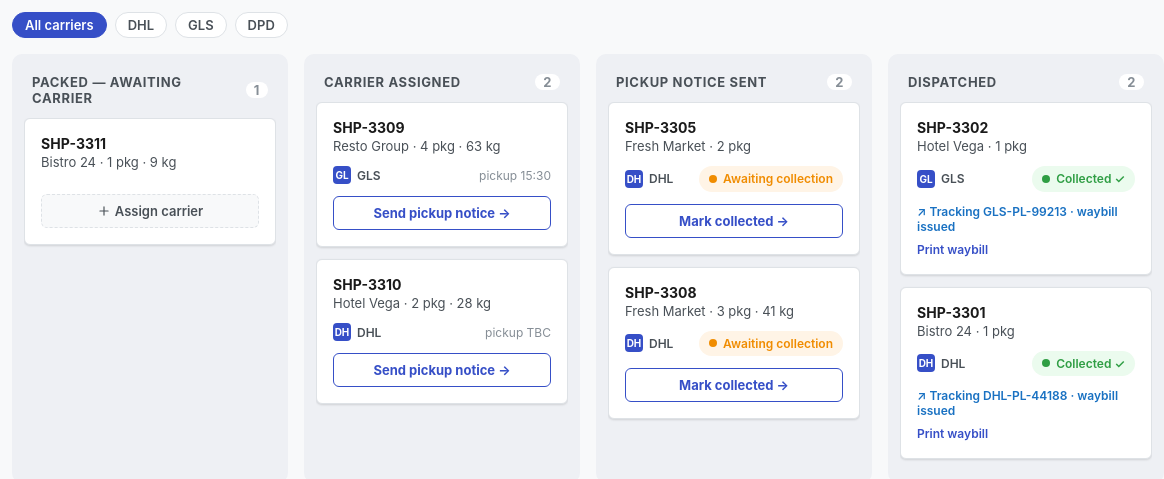
it: DispatchScreen › filters the board by carrier
Expected: the text "SHP-3302" is shown, [917,119,988,136]
Click the button "GLS": [201, 25] box [175,12,227,38]
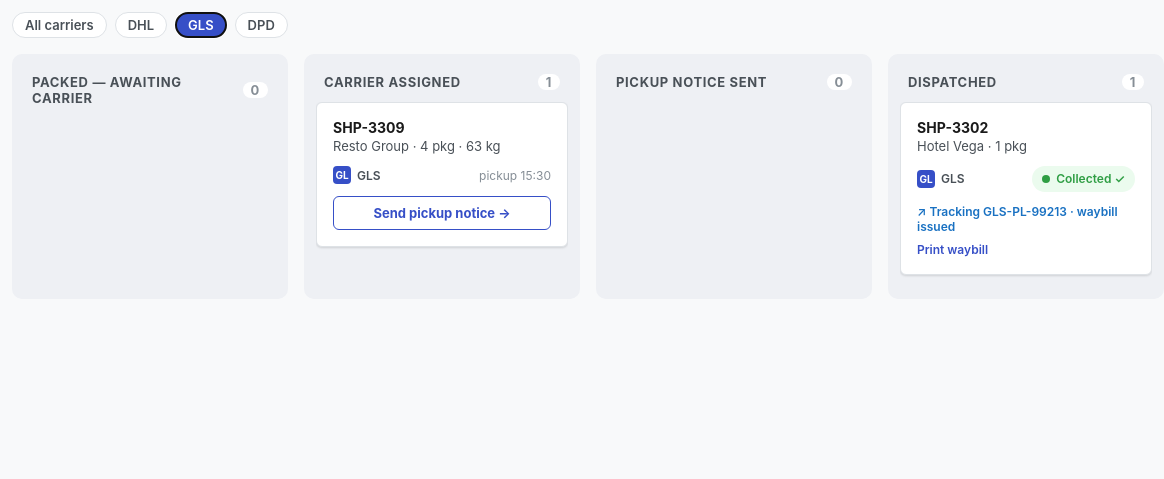
Expected: the text "SHP-3302" is shown, [917,119,988,136]
Expected: the text "SHP-3301" is gone
